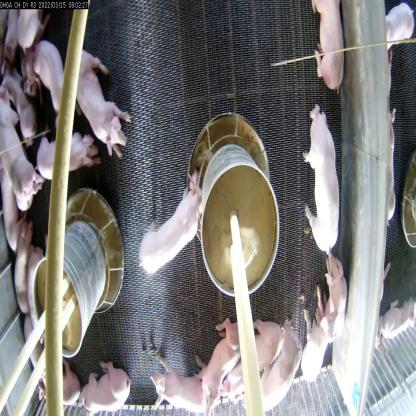Pig: (131, 171, 209, 277), (69, 40, 132, 153), (302, 102, 342, 259), (250, 324, 308, 415), (233, 314, 289, 393), (198, 322, 246, 412), (24, 22, 72, 108), (311, 0, 349, 101), (3, 102, 38, 205), (36, 122, 94, 184), (76, 359, 132, 415), (147, 360, 209, 410), (12, 219, 41, 323), (301, 297, 334, 384), (317, 250, 349, 326), (44, 358, 84, 410)
